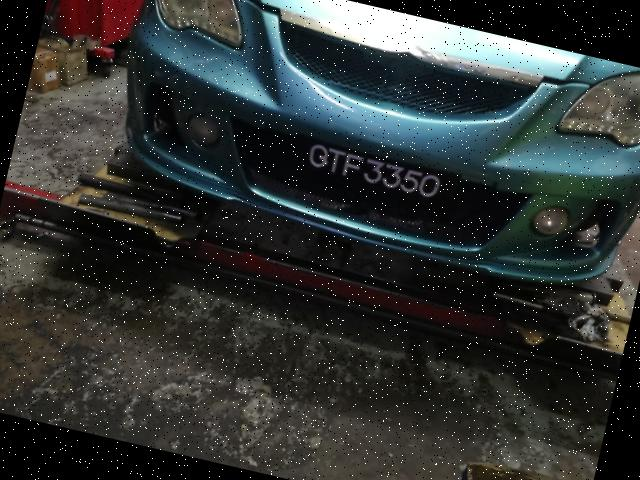License_Plate: (292, 134, 459, 214)
car: (87, 1, 640, 319)
